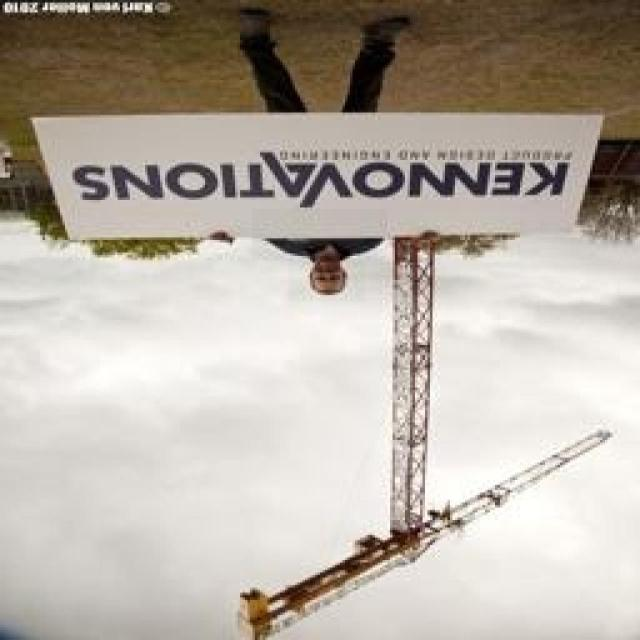Helmet: (252, 209, 387, 260), (289, 244, 365, 302)
